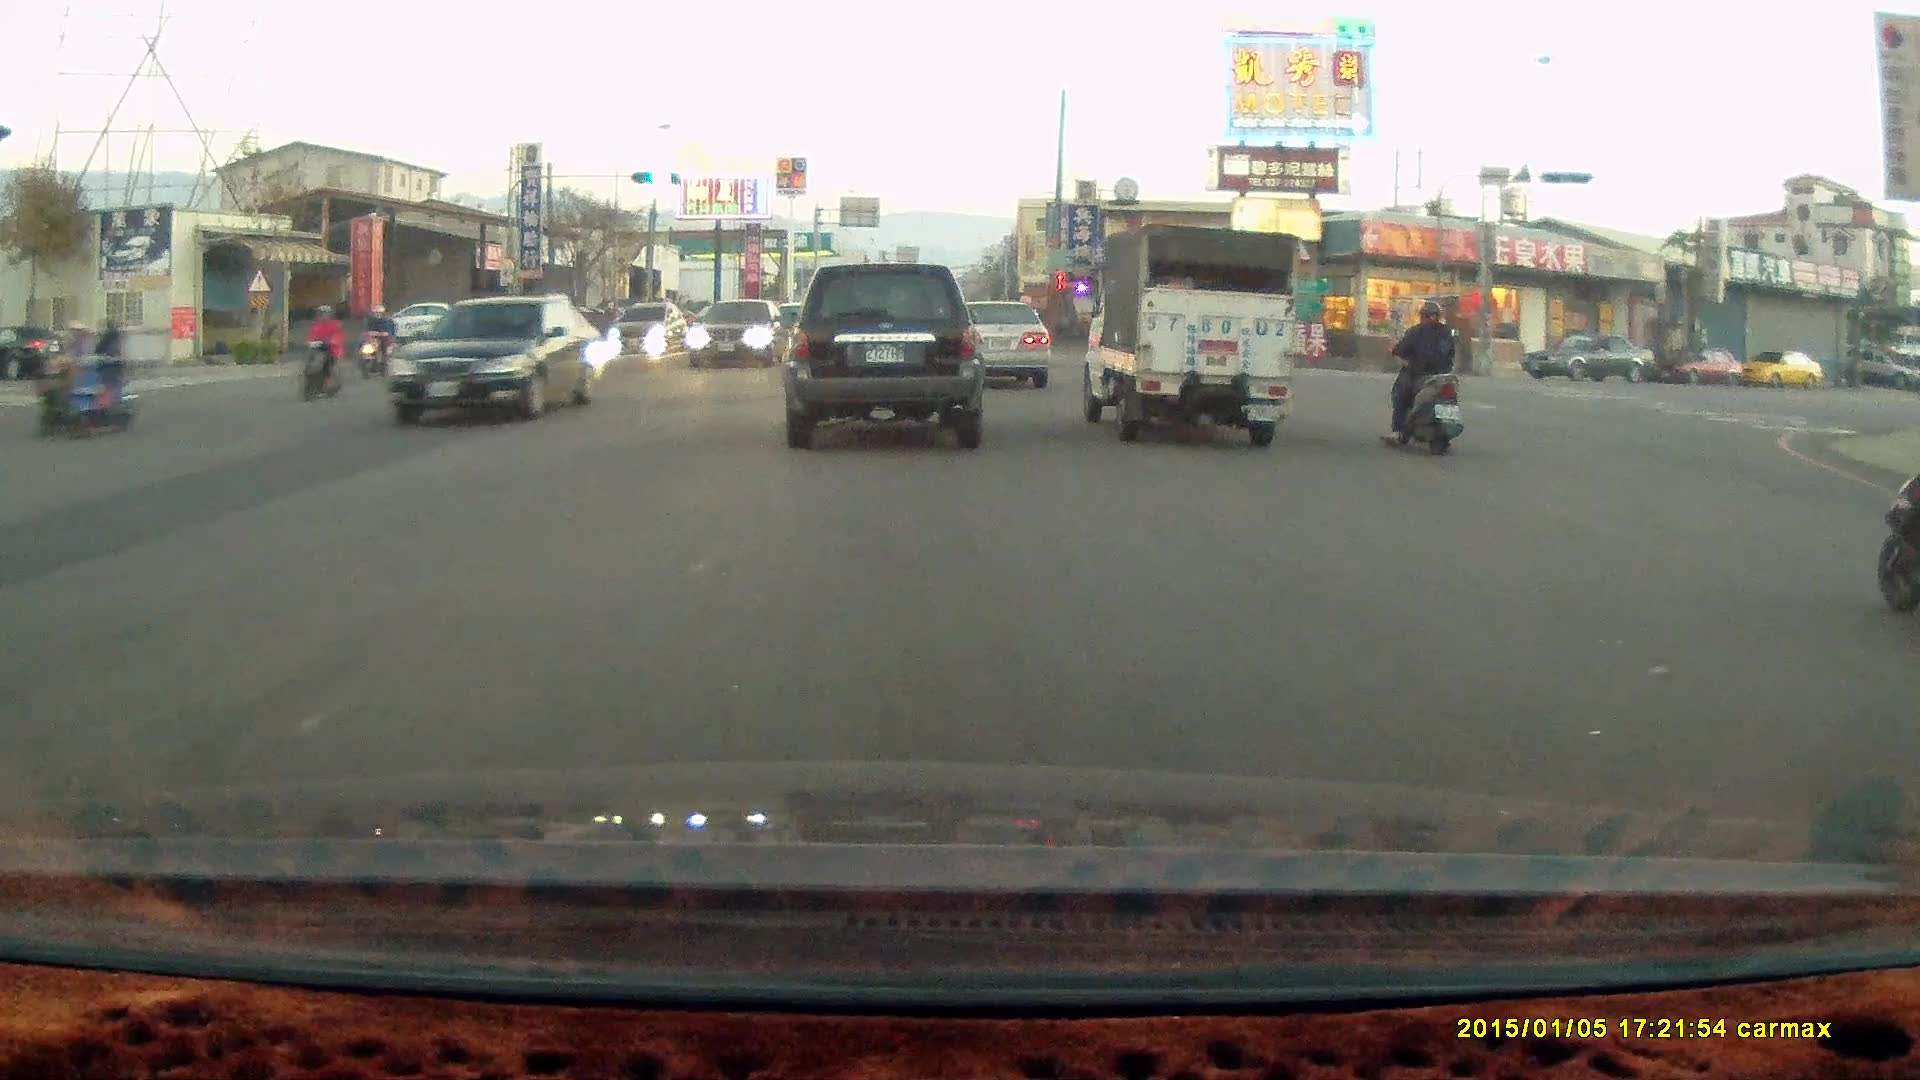rider: (1381, 294, 1464, 454), (52, 315, 136, 431), (1872, 444, 1920, 610), (28, 316, 95, 428), (299, 305, 348, 402), (357, 300, 400, 378)
vehicle: (1070, 222, 1296, 447), (779, 259, 985, 451), (388, 293, 606, 428), (934, 295, 1050, 389), (951, 299, 1053, 390), (686, 297, 792, 370), (1521, 329, 1659, 382), (380, 296, 482, 342), (609, 299, 681, 356), (1658, 344, 1747, 389), (1737, 350, 1826, 389)
